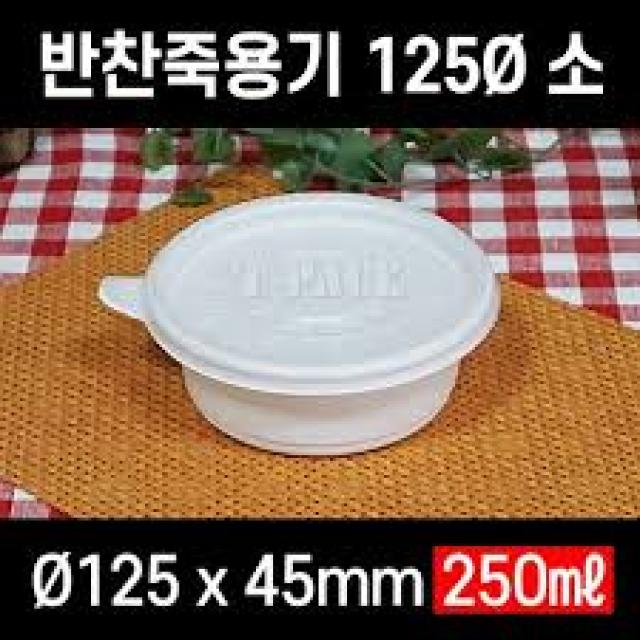disposable: (117, 180, 508, 455)
